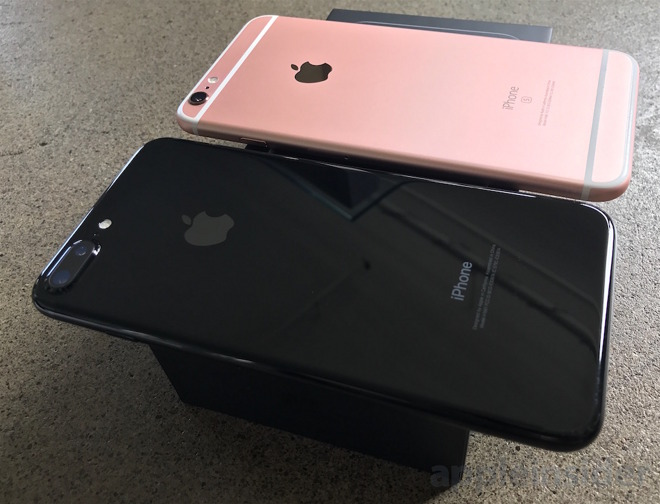apple: (167, 193, 247, 255), (279, 54, 351, 93)
